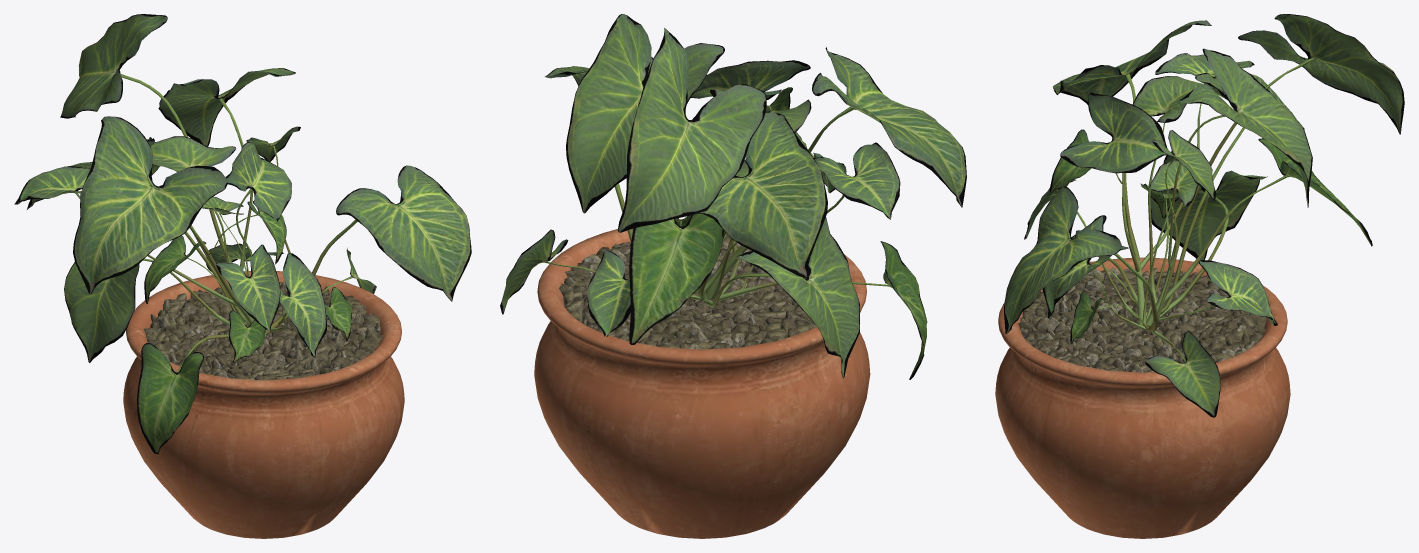
The model's file is plant-large.glb.
3 views of the same model, side by side, from view 1: azimuth 30°, elevation 25°; view 2: azimuth 150°, elevation 25°; view 3: azimuth 270°, elevation 25° (orthographic). The views are drawn at different scales.
Parts seen in each view (by area): view 1: potted_plant_02_leaves, potted_plant_02_pot, potted_plant_02_dirt; view 2: potted_plant_02_leaves, potted_plant_02_pot, potted_plant_02_dirt; view 3: potted_plant_02_leaves, potted_plant_02_pot, potted_plant_02_dirt.
Boxes of the visible parts, x1,y1,x2,y2 form: potted_plant_02_leaves: [14, 14, 471, 454]; potted_plant_02_pot: [123, 271, 404, 538]; potted_plant_02_dirt: [143, 282, 383, 380]; potted_plant_02_leaves: [500, 14, 966, 379]; potted_plant_02_pot: [534, 219, 870, 538]; potted_plant_02_dirt: [559, 234, 816, 349]; potted_plant_02_leaves: [1004, 14, 1404, 417]; potted_plant_02_pot: [995, 257, 1290, 538]; potted_plant_02_dirt: [1018, 267, 1266, 372].
Size of the model in its own units: 0.7009 by 0.8412 by 0.6574.
Materials: 2 (2 with a texture image).
